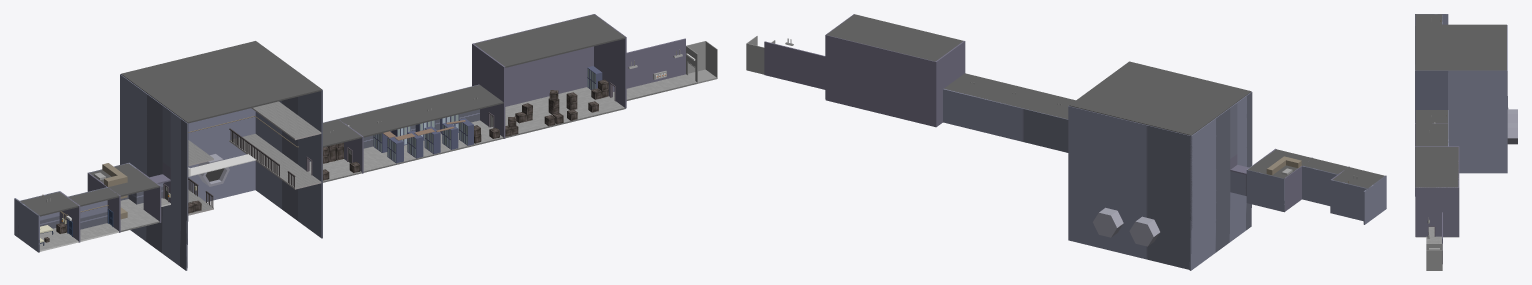
Rendered from level1_a2.fbx.
3 views of the same model, side by side, from view 1: azimuth 30°, elevation 25°; view 2: azimuth 150°, elevation 25°; view 3: azimuth 270°, elevation 25° (orthographic). The views are drawn at different scales.
Parts seen in each view (by area): view 1: Plane.031, Cube.161, Cube.156, Plane.032, Cube.160, Plane.027, Cube.178, Cube.162, Plane.030, Cube.180, Cube.176, Plane.018 (+22 smaller); view 2: Cube.160, Plane.031, Cube.178, Cube.156, Cube.175, Plane.032, Plane.027, Cube.180, Cube.162, Cube.150, Cube.176, Cube.145 (+9 smaller); view 3: Cube.161, Plane.031, Plane.032, Cube.177, Plane.027, Cube.013, Plane.028, Plane.025, Plane.021, Cylinder.007, Cylinder.005, Cube.178 (+4 smaller).
Part boxes in pixels (box(x1,y1,x2,y2)): Plane.031: box(121, 41, 322, 123); Cube.161: box(255, 90, 322, 238); Cube.156: box(120, 74, 170, 252); Plane.032: box(474, 14, 625, 67); Cube.160: box(120, 74, 255, 201); Plane.027: box(339, 85, 503, 137); Cube.178: box(473, 14, 593, 106); Cube.162: box(162, 111, 188, 270); Plane.030: box(491, 87, 625, 138); Cube.180: box(613, 38, 685, 91); Cube.176: box(472, 43, 505, 138); Plane.018: box(229, 133, 321, 189); Cube.160: box(1069, 106, 1192, 269); Plane.031: box(1069, 61, 1251, 135); Cube.178: box(825, 35, 935, 126); Cube.156: box(1189, 103, 1237, 270); Cube.175: box(943, 89, 1068, 152); Plane.032: box(826, 14, 963, 61); Plane.027: box(944, 73, 1075, 119); Cube.180: box(764, 41, 825, 89); Cube.162: box(1229, 91, 1252, 242); Cube.150: box(1246, 169, 1284, 212); Cube.176: box(935, 41, 965, 127); Cube.145: box(1330, 179, 1368, 221); Cube.161: box(1415, 70, 1507, 173); Plane.031: box(1415, 24, 1506, 70); Plane.032: box(1415, 147, 1458, 187); Cube.177: box(1415, 187, 1458, 236); Plane.027: box(1415, 123, 1448, 146); Cube.013: box(1415, 212, 1447, 236); Plane.028: box(1426, 243, 1442, 270); Plane.025: box(1415, 110, 1448, 123); Plane.021: box(1415, 14, 1442, 24); Cylinder.007: box(1507, 123, 1517, 144); Cylinder.005: box(1507, 109, 1517, 122); Cube.178: box(1458, 147, 1459, 236).
Bounding box in the file's own units: 101900 × 19100 × 21100.
Materials: 35 (4 with a texture image).
